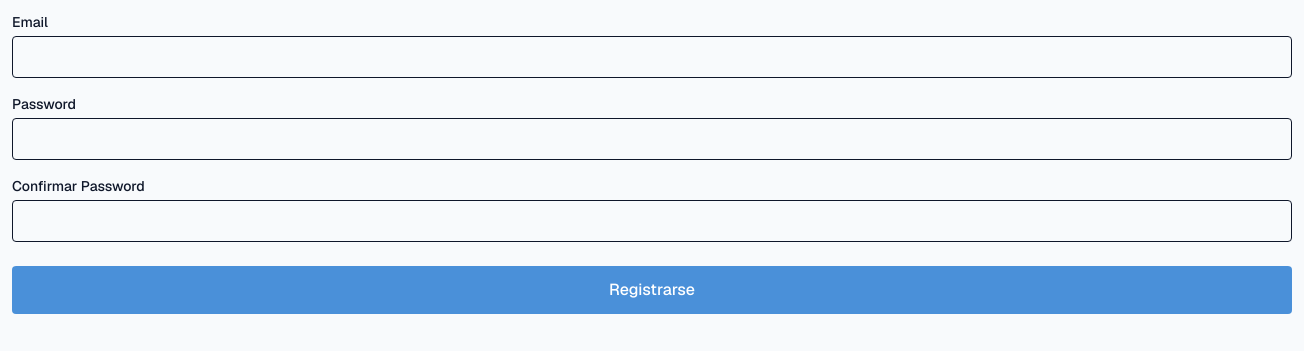
Test: RegisterForm › shows validation error for weak password
The image size is (1304, 351).
Type "test@test.com" into the field labelled "Email".
click(652, 57); type("test@test.com")  # box x1=12 y1=36 x2=1292 y2=78
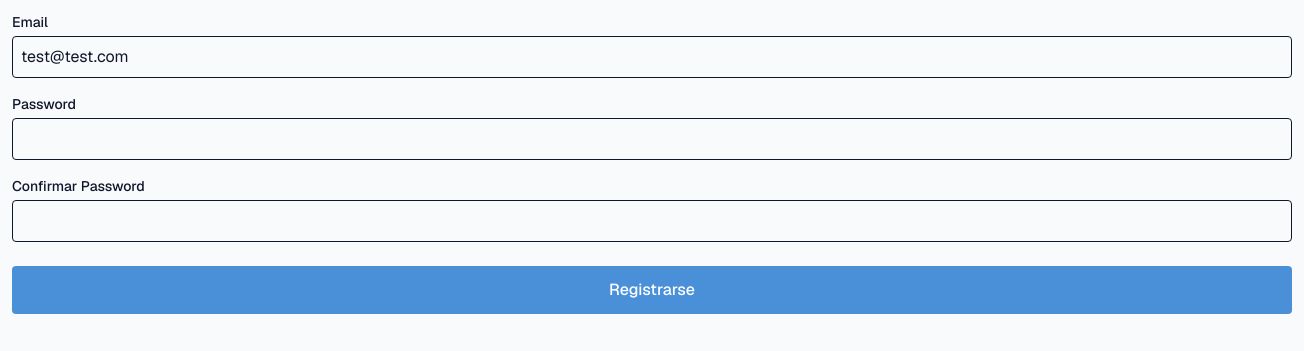
Type "weak" into the password field labelled "Password".
click(652, 139); type("weak")  # box x1=12 y1=118 x2=1292 y2=160
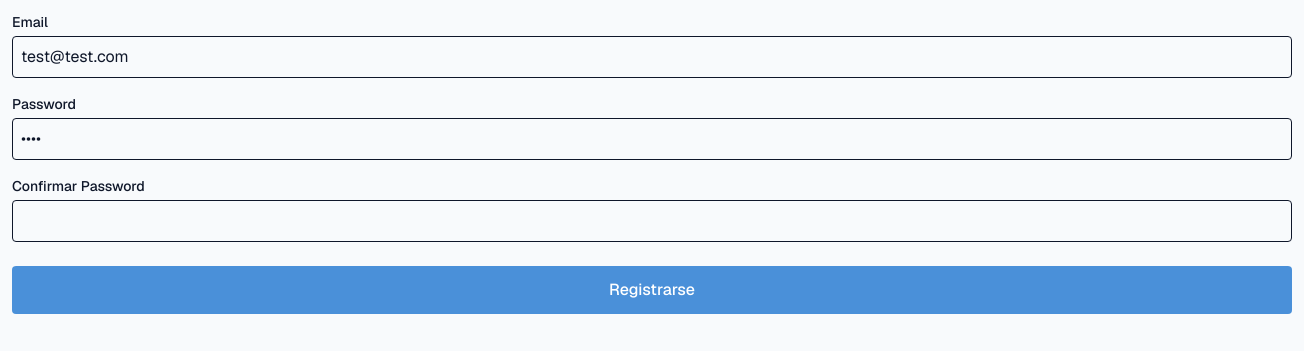
Type "weak" into the password field labelled "Confirmar Password".
click(652, 221); type("weak")  # box x1=12 y1=200 x2=1292 y2=242
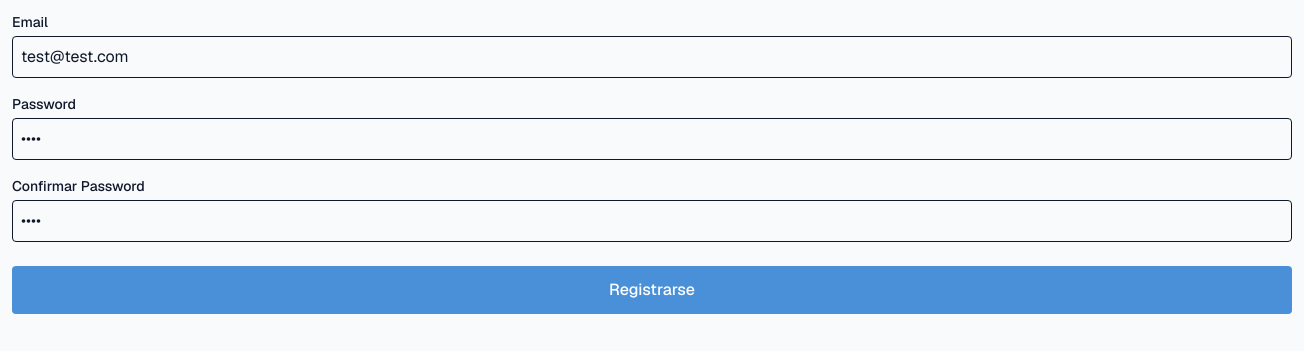
Submit the form
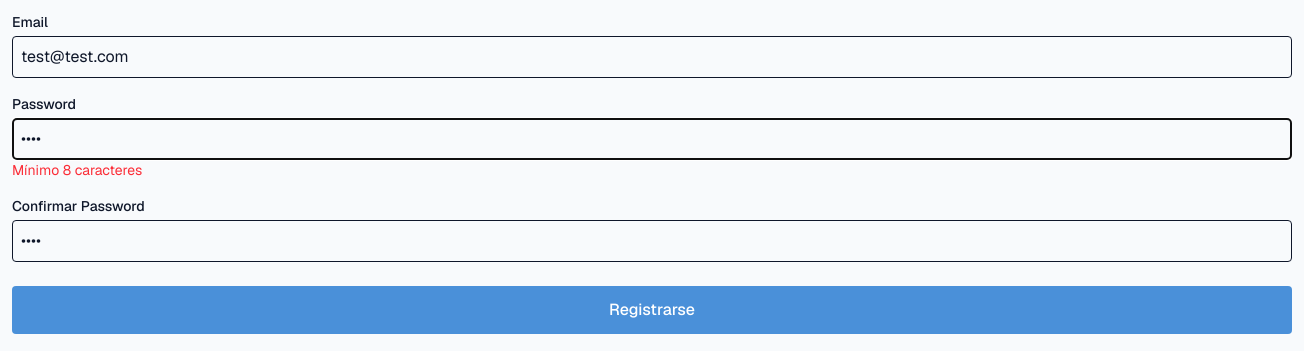
expect the text "Mínimo 8 caracteres" is shown: met, box x1=12 y1=161 x2=142 y2=179
